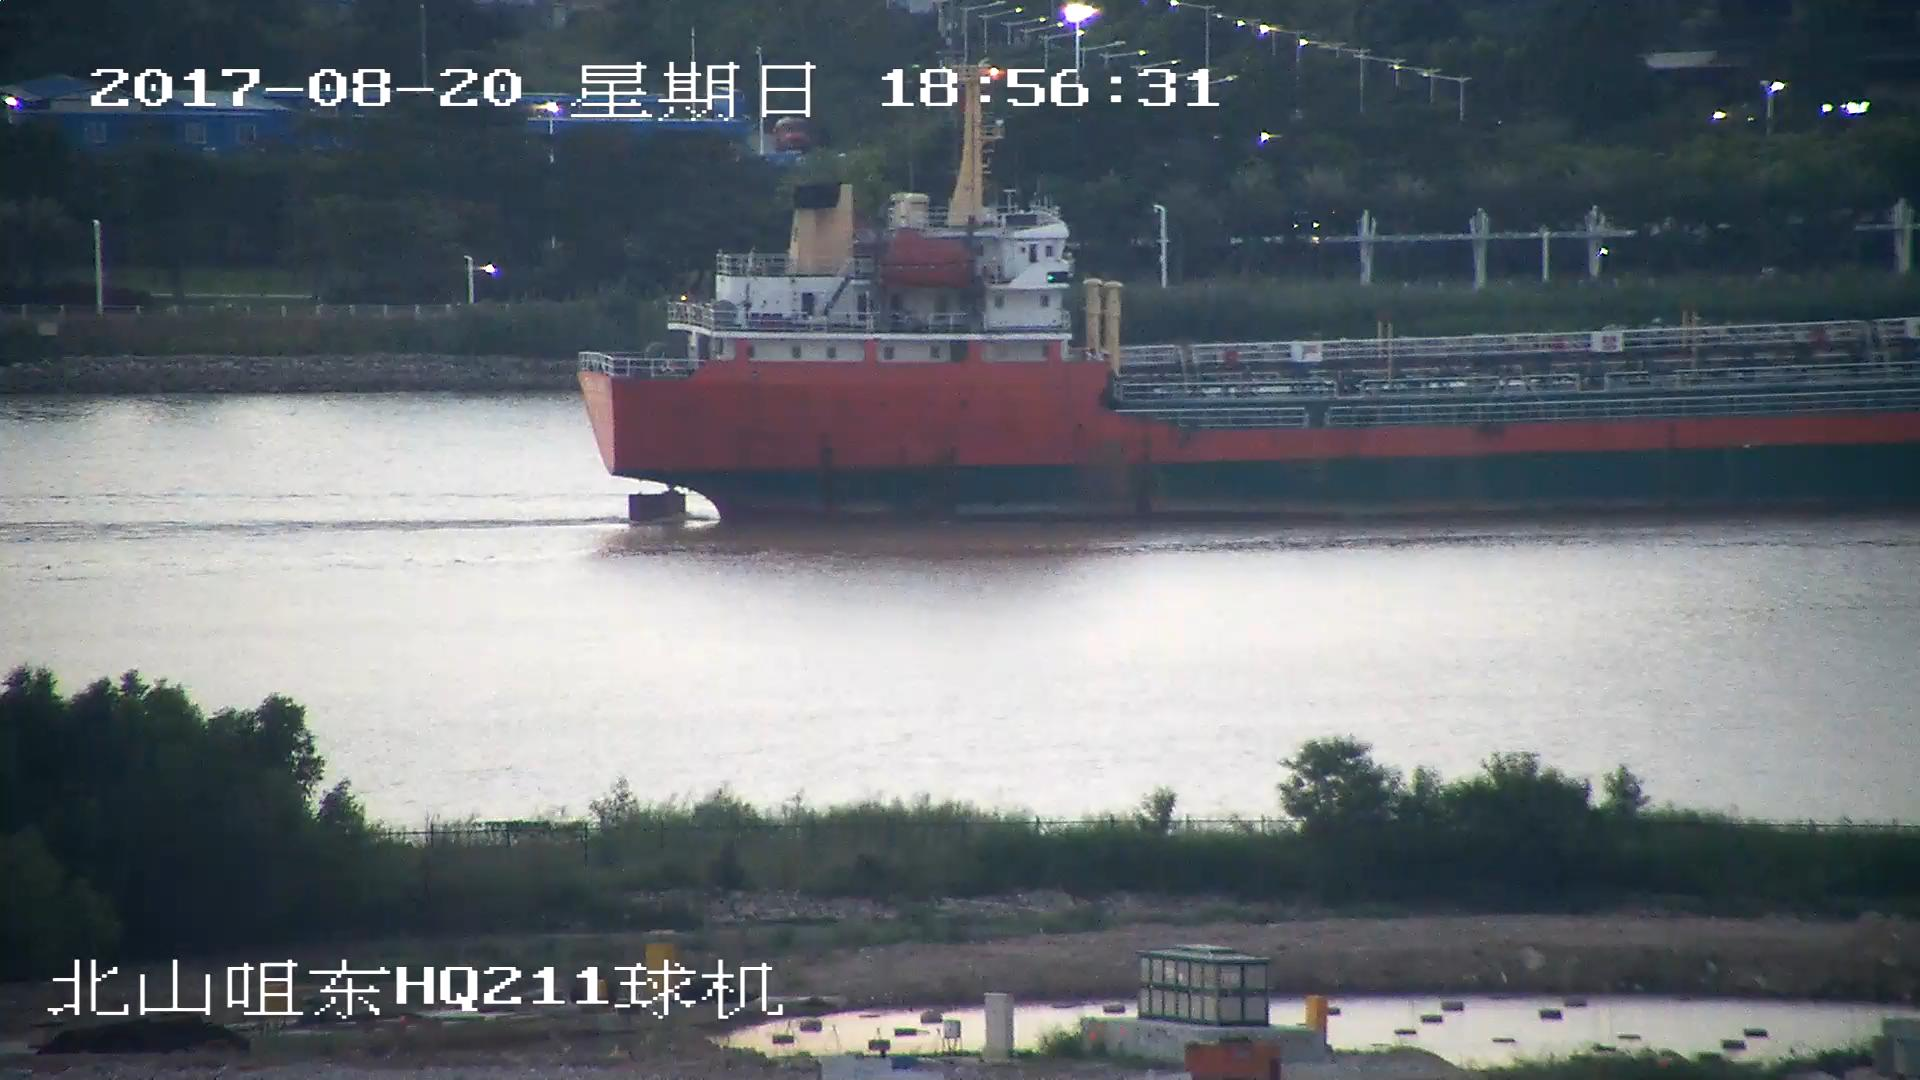general cargo ship: (569, 126, 1920, 517)
